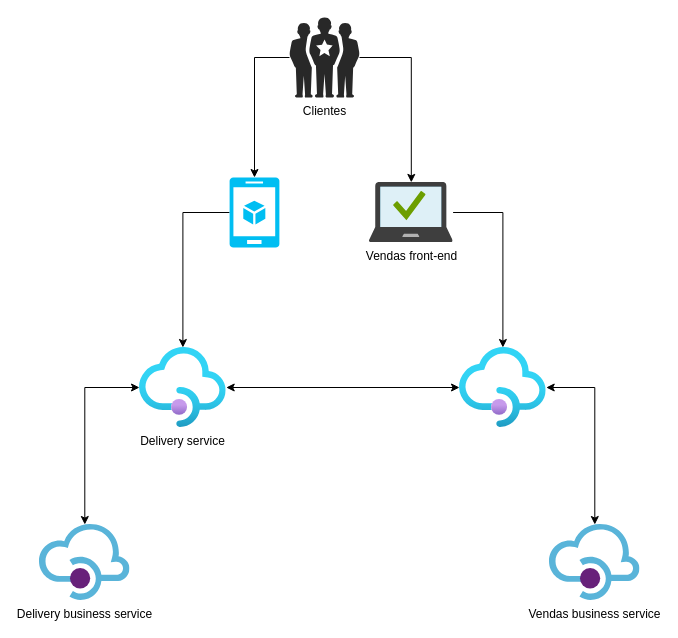
Some shapes in this 678 by 638 pixel diagram are drawn without their labels. The centre of each missing label's shape, as x and y in pixels:
Delivery front-end: [254,212]
Vendas service: [502,387]
